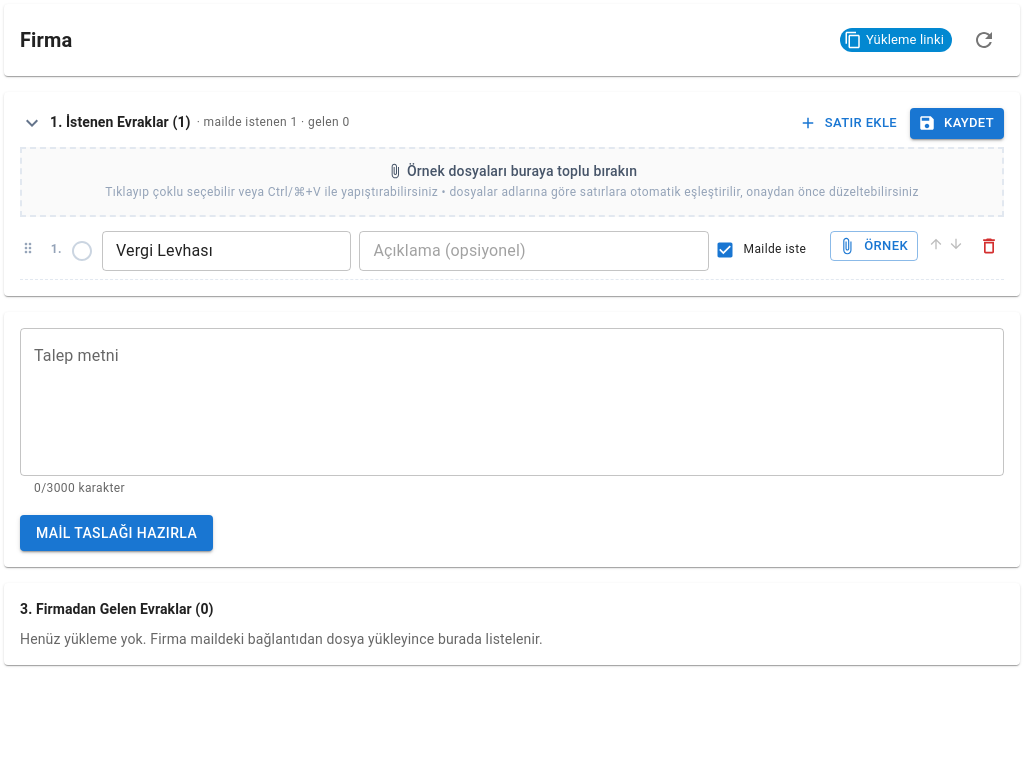
Test: taslak silinirken şablon önizlemesi hata verirse kaydedilmiş taslak korunur
The width and height of the screenshot is (1024, 768).
Click the button "Mail Taslağı Hazırla": (117, 533) [20, 515, 213, 551]
(page scrolled)
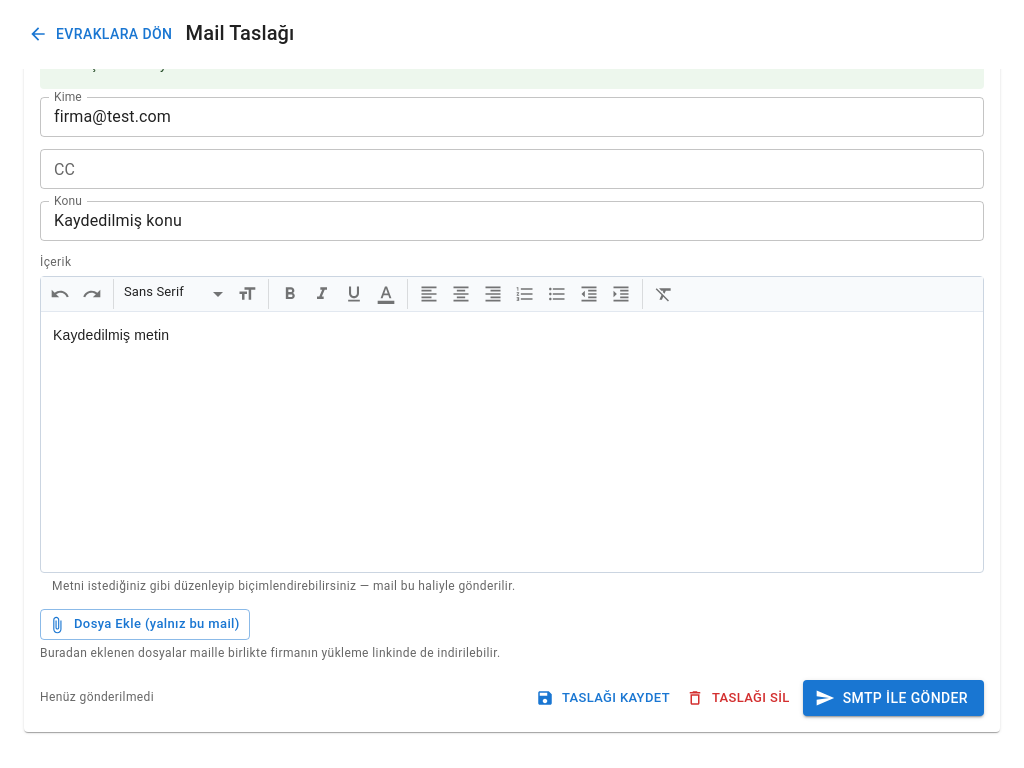
Click the button "Taslağı Sil": (739, 698) [683, 680, 795, 716]
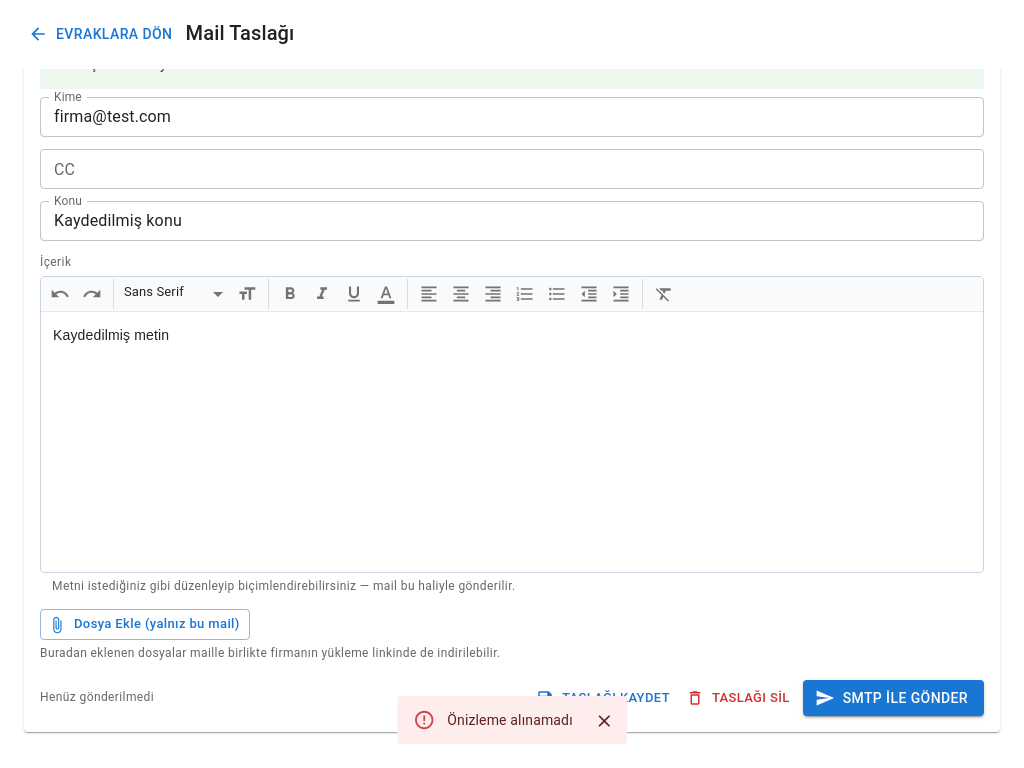
Result: the field named "İçerik" reads "Kaydedilmiş metin" at [53, 327, 169, 343]
Result: the text "Önizleme alınamadı" is shown at [447, 712, 573, 728]
